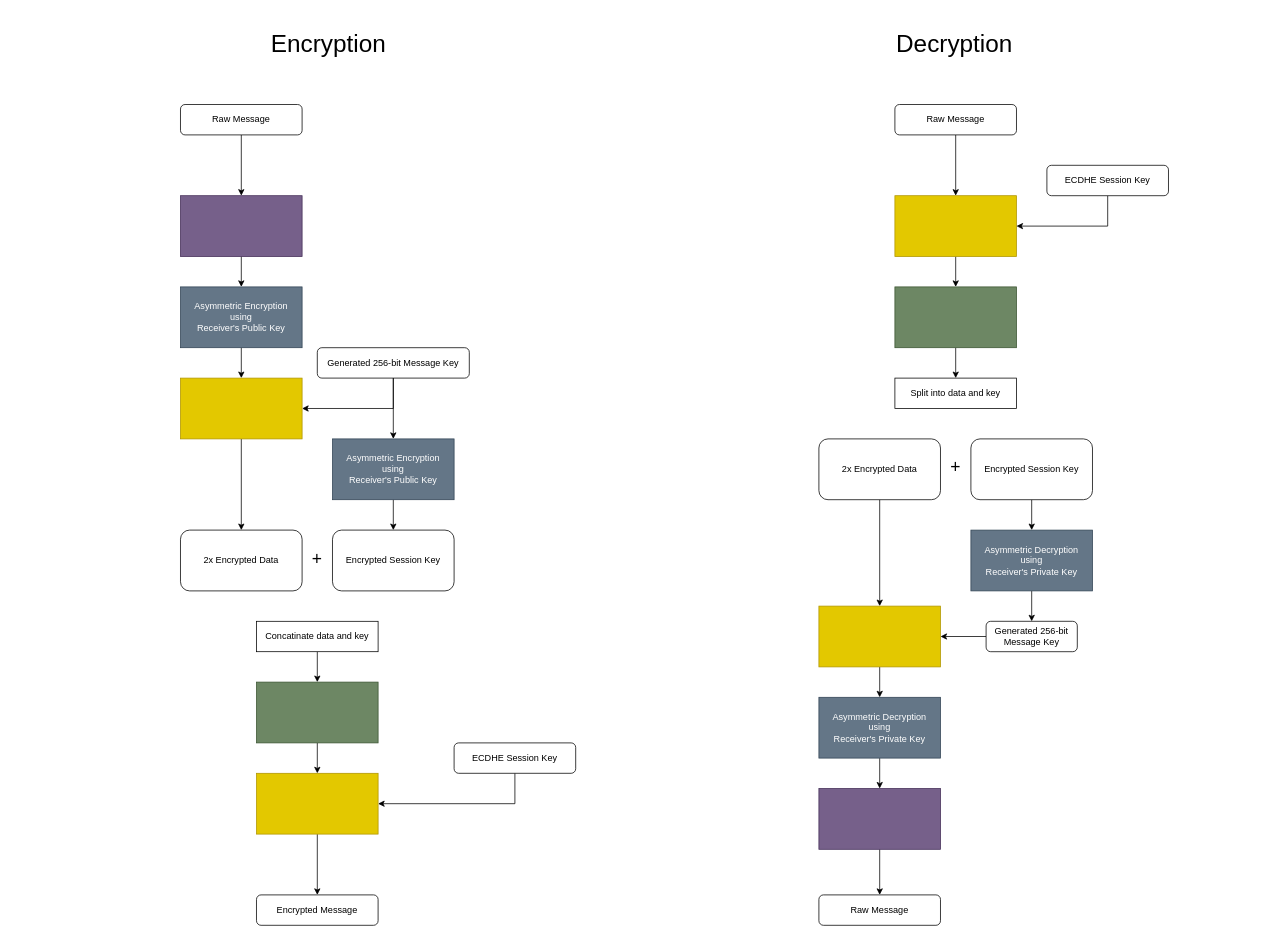
Image size: 1280x939. Some labels were removed from this diagram. The centre of each missing label's shape, as x and y in pixels:
Asymmetric Decryption using Sender Public Key: point (955, 317)
Asymmetric Encryption using Sender's Private Key: point (317, 712)
Signature using Sender's Private Key: point (241, 225)
Signature Verification using Sender Public Key: point (879, 818)
Symmetic Decryption using Generated Key: point (879, 636)
Symmetic Encryption using Generated Key: point (241, 408)
Symmetric Decryption using ECDHE Key: point (955, 225)
Symmetric Encryption using ECDHE Key: point (317, 803)
